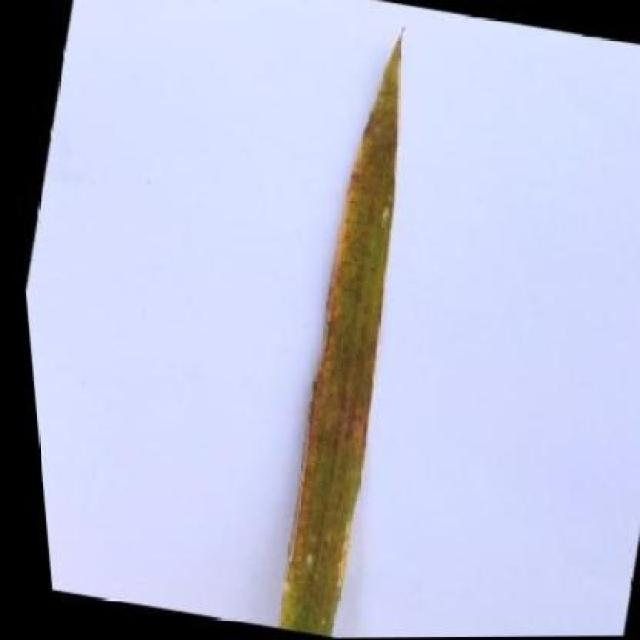Rice False Smut: (268, 33, 402, 636)
